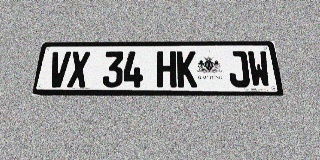3: (102, 51, 124, 87)
4: (123, 51, 143, 87)
H: (157, 51, 177, 87)
J: (227, 51, 251, 87)
K: (177, 51, 197, 87)
V: (47, 52, 71, 87)
W: (247, 51, 272, 87)
X: (67, 51, 90, 87)
